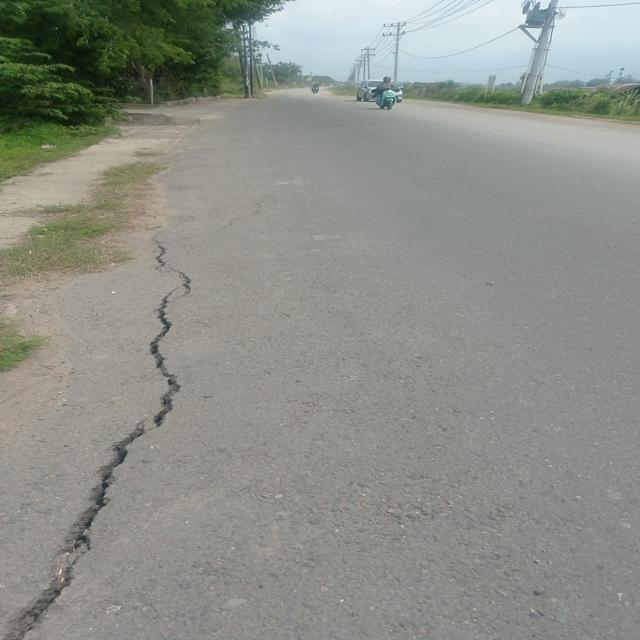Memanjang: (0, 239, 203, 640)
